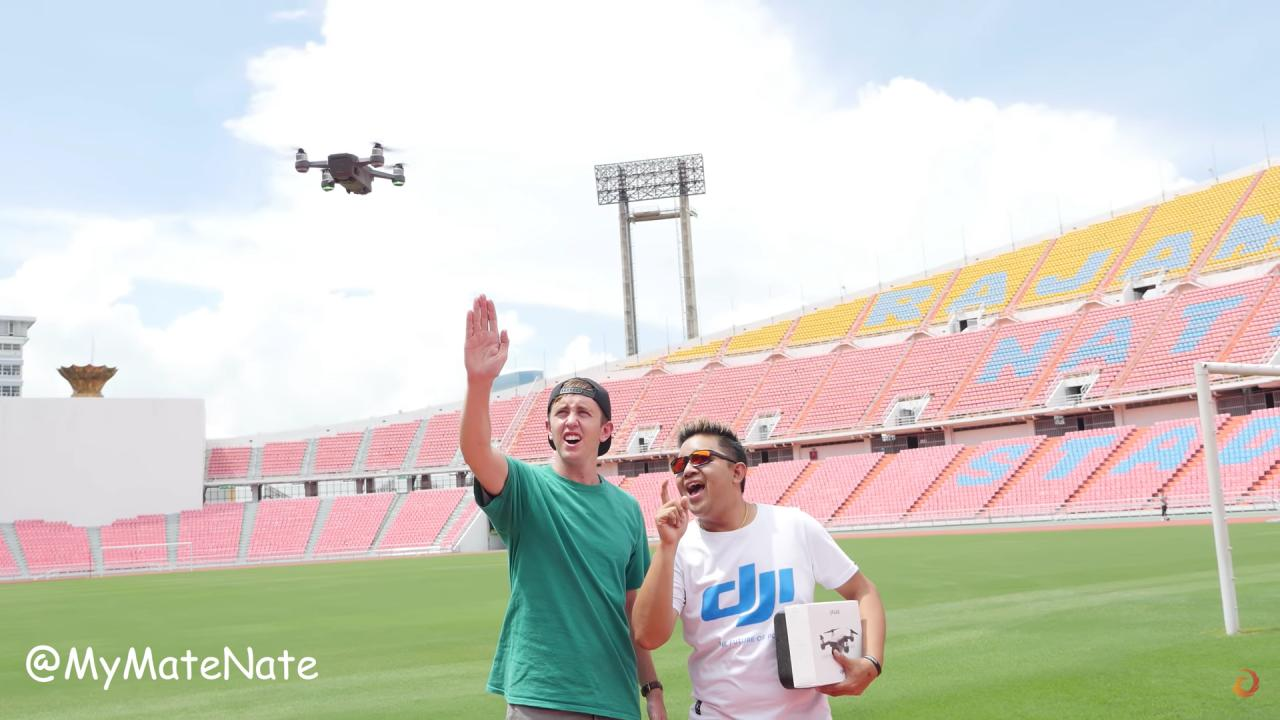Drone: (272, 130, 415, 206)
